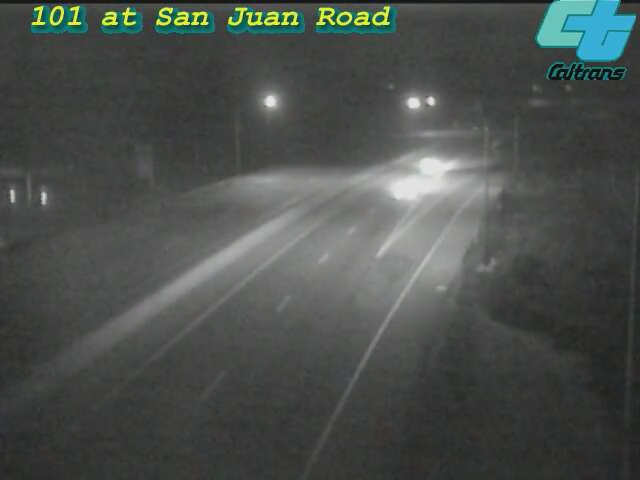vehicle: (392, 124, 472, 204), (366, 149, 446, 229)
